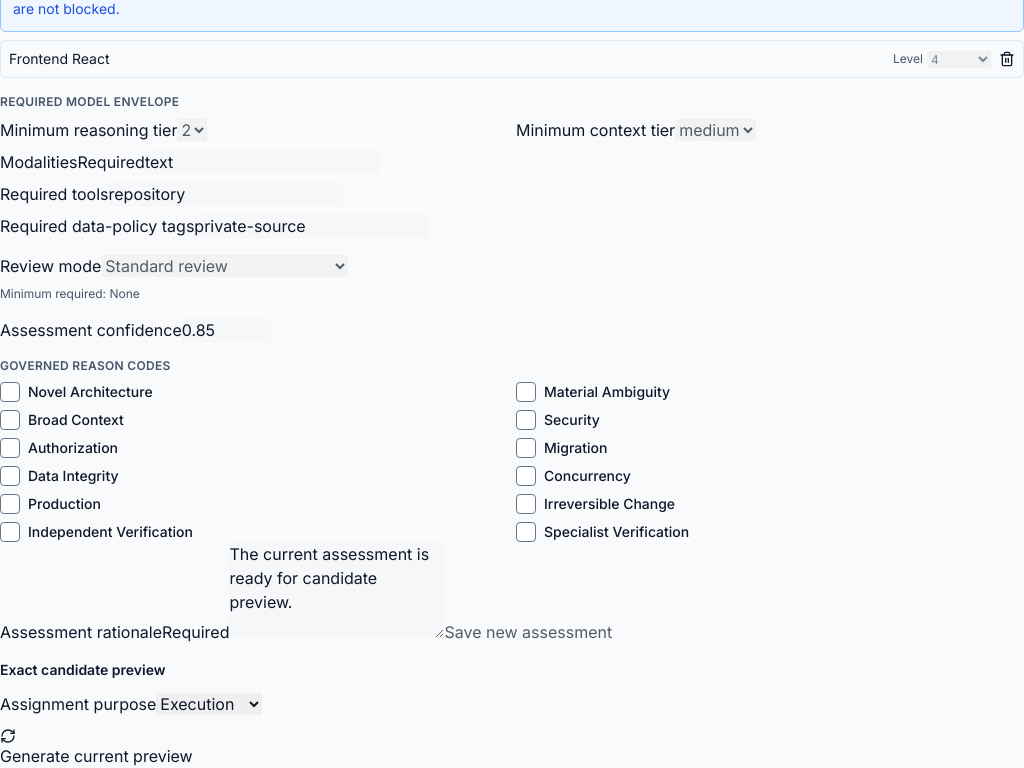
Scenario: TaskRoutingPanel routing gates › offers explicit recovery actions when no candidate is eligible
(page scrolled)
Click the button "Generate current preview": (96, 748) [0,728,193,767]
(page scrolled)
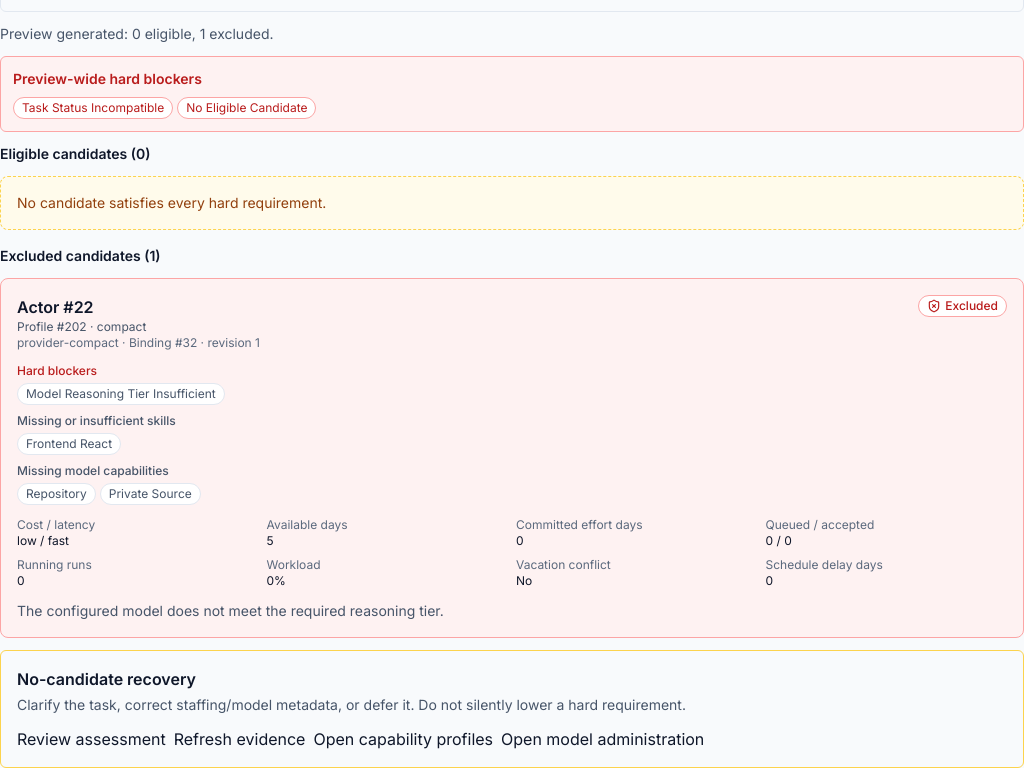
Check: the text "Preview-wide hard blockers" is shown, box [13,70,202,87]
Check: the text "Task Status Incompatible" is shown, box [13,97,173,119]
Check: the heading "No-candidate recovery" is shown, box [17,669,196,689]
Click the button "Review assessment": (91, 739) [17,727,166,751]
(page scrolled)
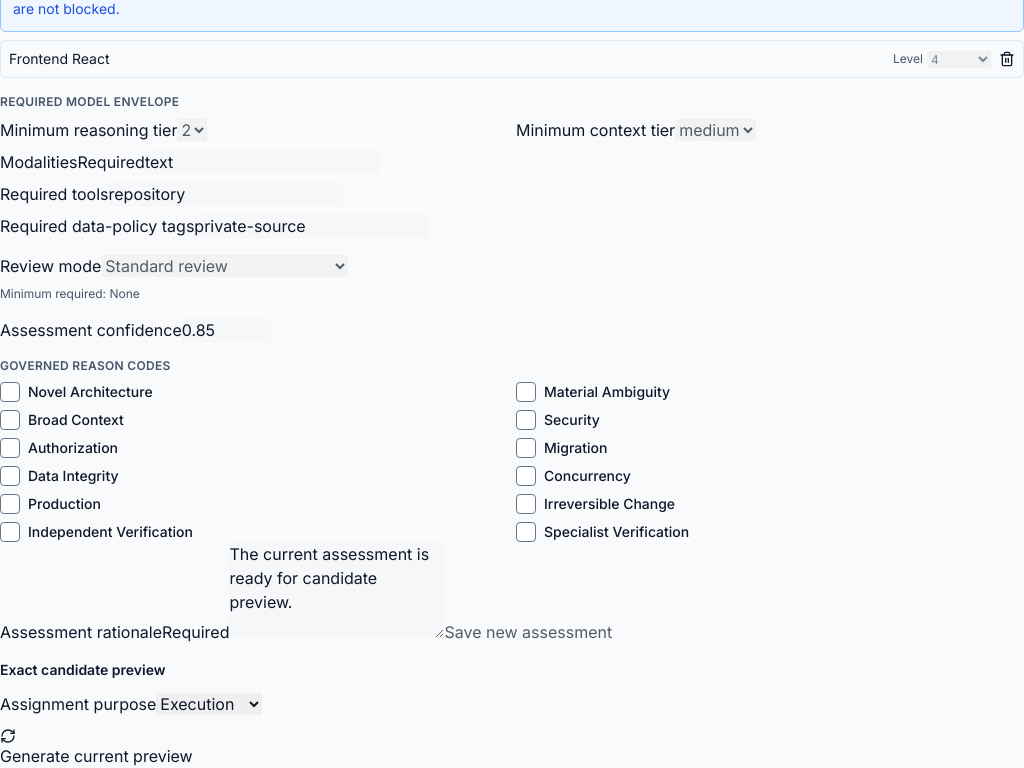
Check: the heading "No-candidate recovery" is gone
Click the button "Generate current preview": (96, 748) [0,728,193,767]
(page scrolled)
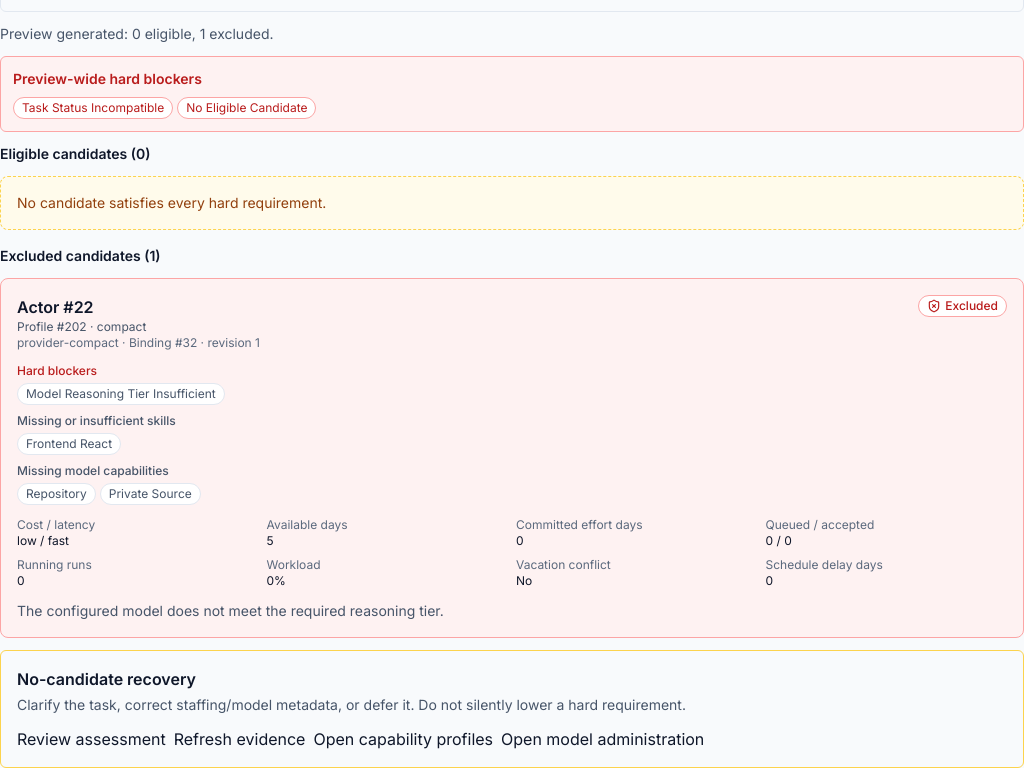
Click the button "Refresh evidence": (240, 739) [174,727,305,751]
(page scrolled)
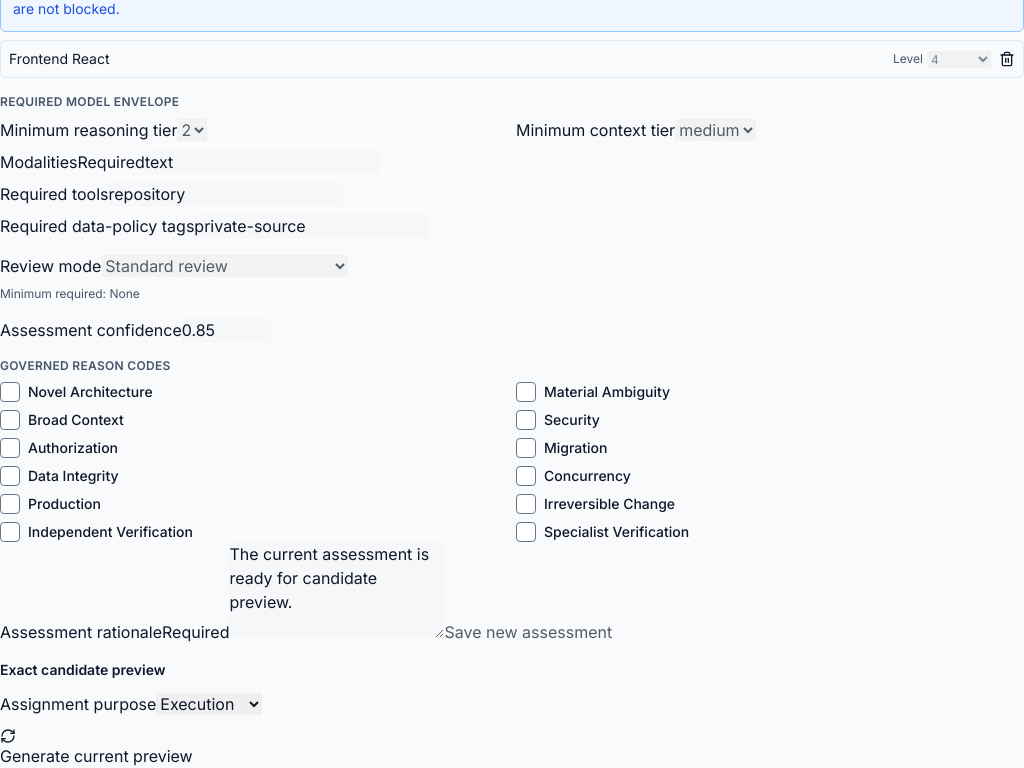
Check: the heading "No-candidate recovery" is gone
